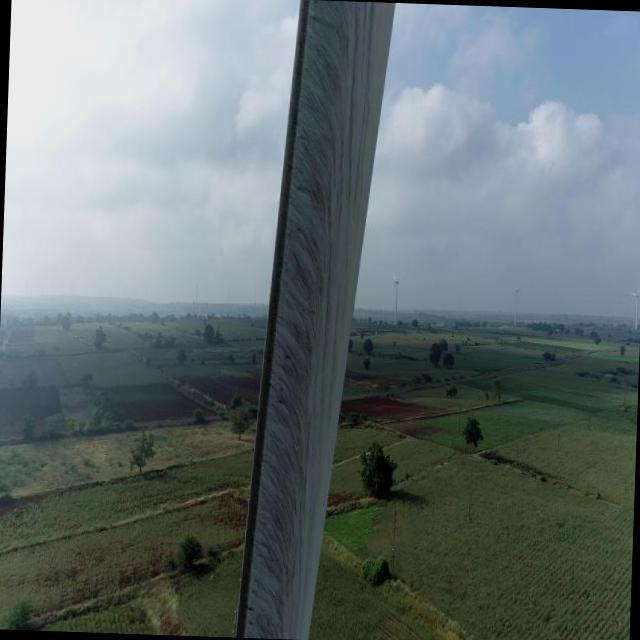Dirt: (233, 3, 395, 639)
